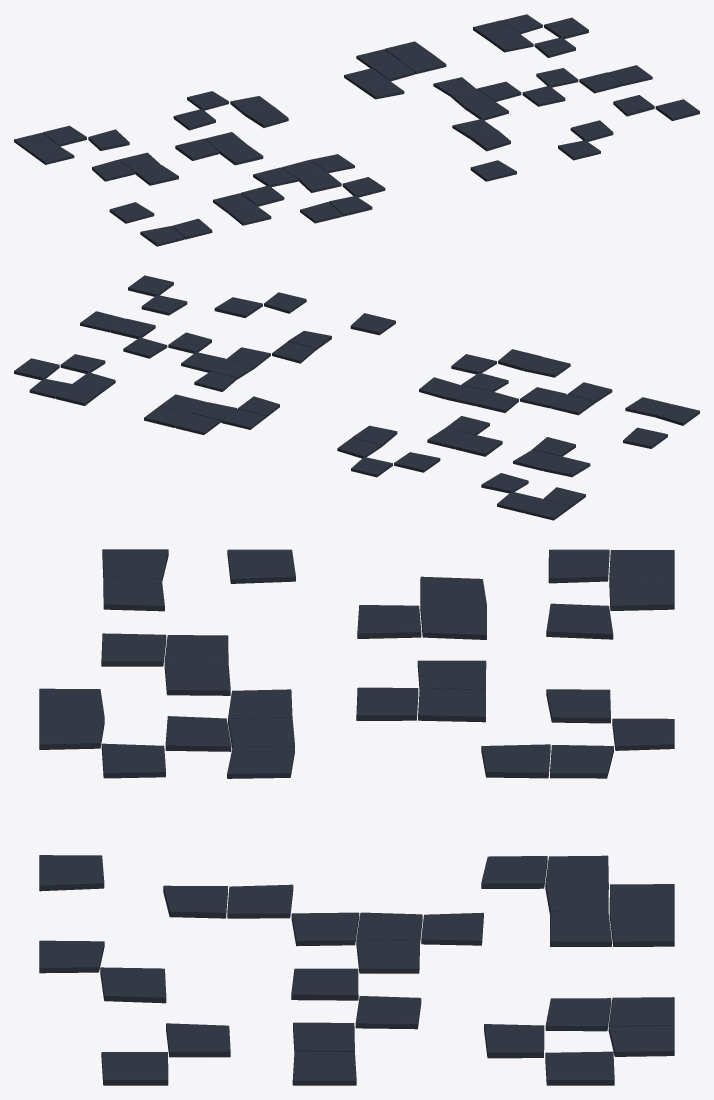
File: Floor2_FloorStoneLight.fbx
3 renders of one model, top to bottom at view 1: azimuth 30°, elevation 25°; view 2: azimuth 150°, elevation 25°; view 3: azimuth 270°, elevation 25°, orthographic. The views are drawn at different scales.
Visible parts, largest first — view 1: Floor1_0_1.001; view 2: Floor1_0_1.001; view 3: Floor1_0_1.001.
Boxes of the visible parts, x1,y1,x2,y2 form: Floor1_0_1.001: (14,14,699,246); Floor1_0_1.001: (14,275,699,520); Floor1_0_1.001: (39,549,674,1085).
Size of the model in its own units: 14986 by 85.29 by 7587.
